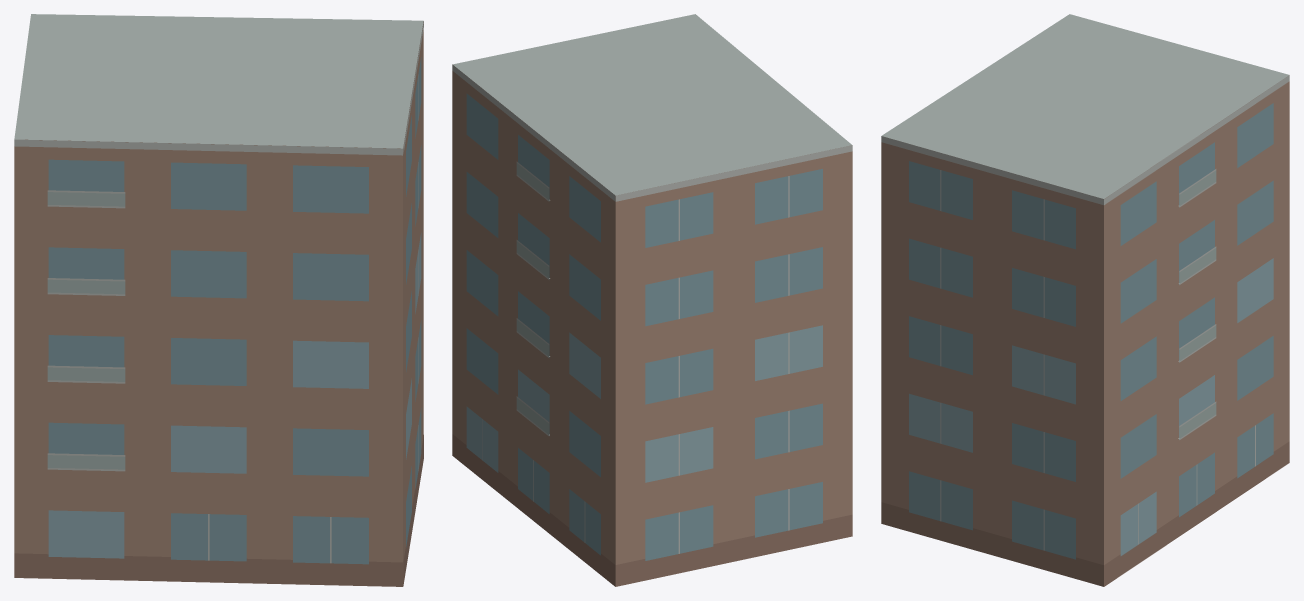
The model's file is survey-upis-32779138.glb.
The picture shows the model from 3 angles, left to right: view 1: azimuth 30°, elevation 25°; view 2: azimuth 150°, elevation 25°; view 3: azimuth 270°, elevation 25°; orthographic projection. The views are drawn at different scales.
Parts seen in each view (by area): view 1: survey-upis-32779138.tmp; view 2: survey-upis-32779138.tmp; view 3: survey-upis-32779138.tmp.
Part boxes in pixels (left/top/right/bottom): survey-upis-32779138.tmp: left=14, top=14, right=423, bottom=586; survey-upis-32779138.tmp: left=452, top=14, right=852, bottom=586; survey-upis-32779138.tmp: left=881, top=14, right=1289, bottom=586.
Size of the model in its own units: 15.62 by 15.25 by 14.56.
